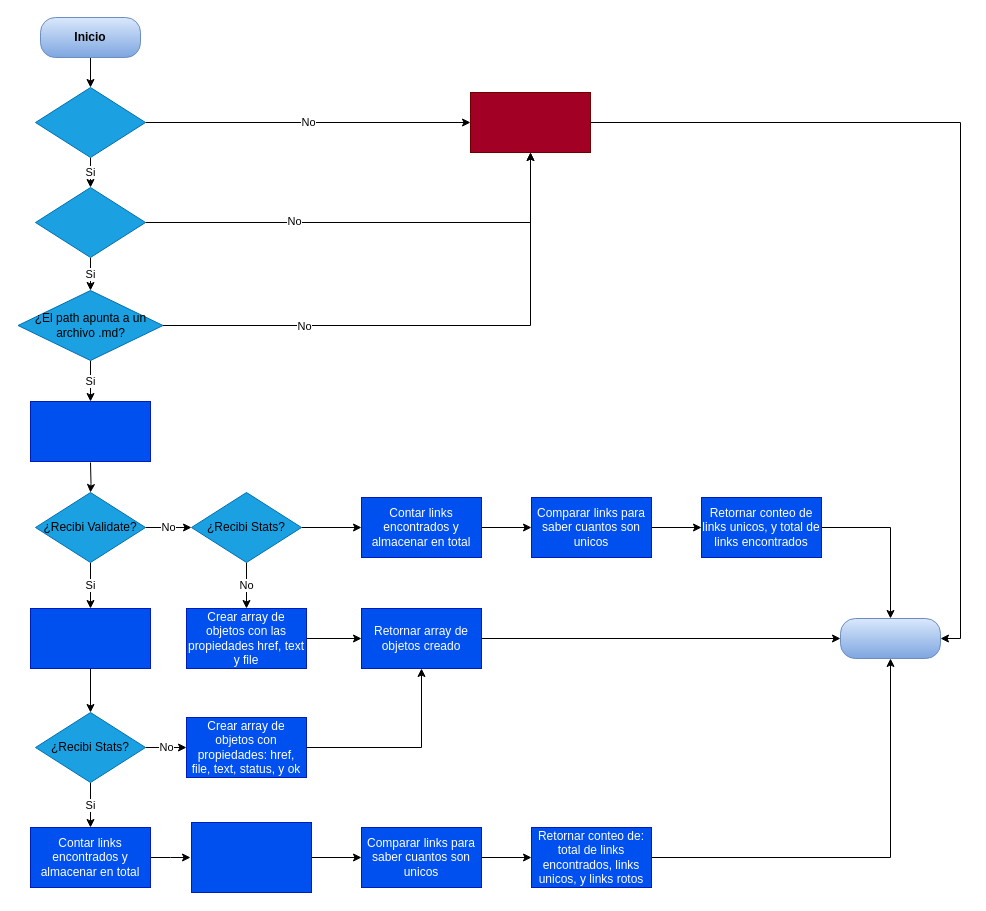
Image size: 986x911. Some labels were removed from this diagram. The shapes that lost their labels are listed below. From the top down, each one's centre as x and y in pixels, then its label:
the point at 90,122: ¿Recibi Path?
the point at 530,122: Mostrar error
the point at 90,222: ¿Path existe?
the point at 90,431: Extraer links del archivo
the point at 90,638: Hacer peticiones HTTP a links encontrados
the point at 890,638: Fin
the point at 251,857: Clasificar segun status retornados en las peticiones, cuantos links hay rotos
